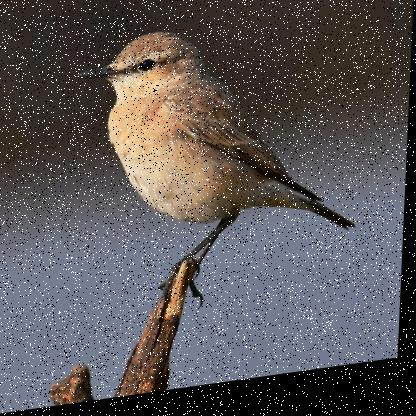Burung: (70, 11, 376, 320)
